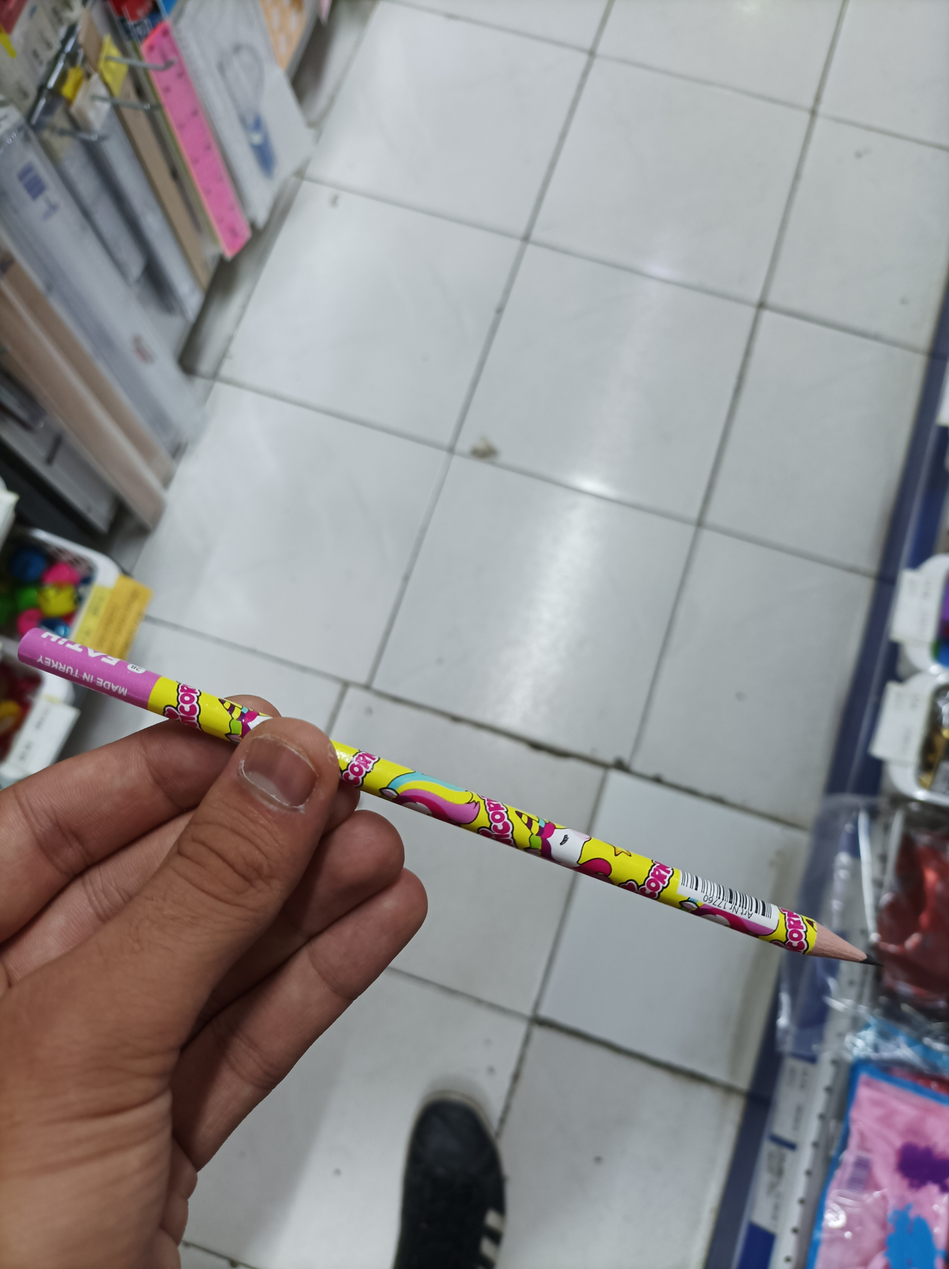plastic: (23, 625, 866, 961)
